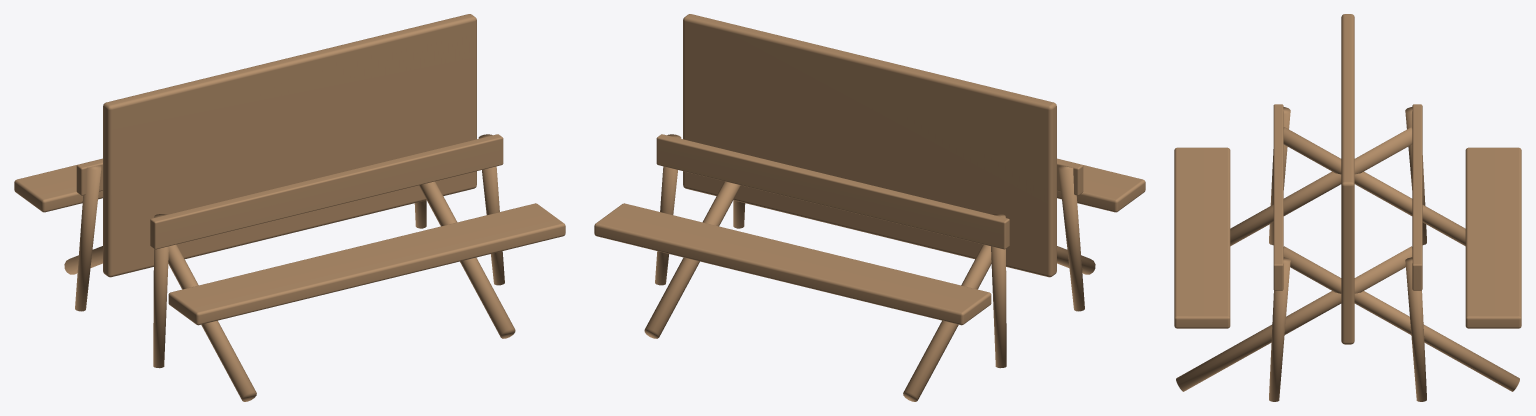
File: atelier-picnic-table.glb
3 renders of one model, left to right at view 1: azimuth 30°, elevation 25°; view 2: azimuth 150°, elevation 25°; view 3: azimuth 270°, elevation 25°, orthographic. The views are drawn at different scales.
Visible parts, largest first — view 1: legs.074; view 2: legs.074; view 3: legs.074.
Part boxes in pixels (box(x1,y1,x2,y2)): legs.074: box(14, 14, 565, 401); legs.074: box(594, 14, 1145, 401); legs.074: box(1174, 14, 1521, 401).
Size of the model in its own units: 1.8 by 1.15 by 1.55.
